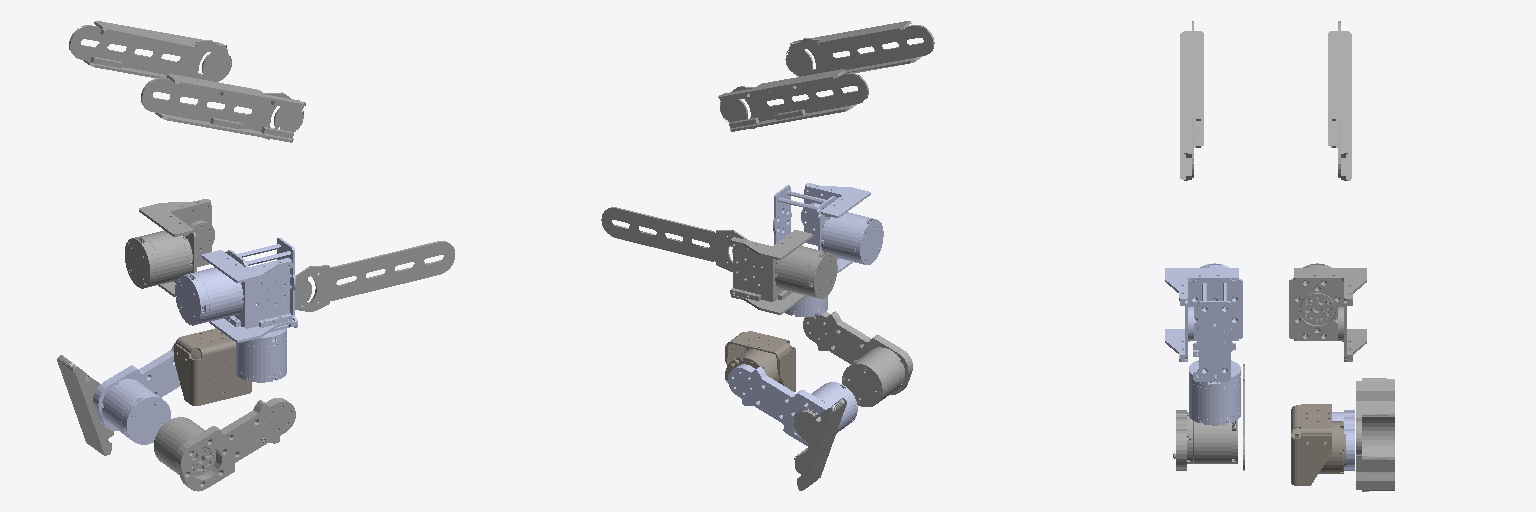
The robot description file, URDF, robot "Pikachu_V01":
<?xml version="1.0" encoding="utf-8"?>
<!-- This URDF was automatically created by SolidWorks to URDF Exporter! Originally created by Stephen Brawner (brawner@gmail.com) 
     Commit Version: 1.6.0-4-g7f85cfe  Build Version: 1.6.7995.38578
     For more information, please see http://wiki.ros.org/sw_urdf_exporter -->
<robot
  name="Pikachu_V01">
  
  
  <!-- mujoco compiler insert -->
  
  <!-- <mujoco>
      <compiler 
      meshdir="../meshes/" 
      balanceinertia="true" 
      discardvisual="false"
      fusestatic="false"/> 
  </mujoco>
   -->
   
  <link
    name="base_link">
    <inertial>
      <origin
        xyz="0.0192484046446927 0.00249628426083394 0.0894284213937917"
        rpy="0 0 0" />
      <mass
        value="1.04578482691312" />
      <inertia
        ixx="0.00406465902676324"
        ixy="7.57272689961396E-08"
        ixz="8.93044145248673E-05"
        iyy="0.00438157067795783"
        iyz="4.93496965835154E-08"
        izz="0.000495755047981349" />
    </inertial>
    <visual>
      <origin
        xyz="0 0 0"
        rpy="0 0 0" />
      <geometry>
        <mesh
          filename="../meshes/base_link.STL" />
      </geometry>
      <material
        name="">
        <color
          rgba="0.792156862745098 0.819607843137255 0.933333333333333 1" />
      </material>
    </visual>
    <collision>
      <origin
        xyz="0 0 0"
        rpy="0 0 0" />
      <geometry>
        <mesh
          filename="../meshes/base_link.STL" />
      </geometry>
    </collision>
  </link>
  <link
    name="back_tail_link">
    <inertial>
      <origin
        xyz="0.0870617396901829 -4.35242120122581E-15 -0.00149999999999541"
        rpy="0 0 0" />
      <mass
        value="0.0553404878609228" />
      <inertia
        ixx="9.04099512803402E-06"
        ixy="-1.83162226476631E-19"
        ixz="-2.79463308749071E-09"
        iyy="0.000211829519933132"
        iyz="-4.40283733453099E-22"
        izz="0.000220787767309185" />
    </inertial>
    <visual>
      <origin
        xyz="0 0 0"
        rpy="0 0 0" />
      <geometry>
        <mesh
          filename="../meshes/back_tail_link.STL" />
      </geometry>
      <material
        name="">
        <color
          rgba="0.698039215686274 0.698039215686274 0.698039215686274 1" />
      </material>
    </visual>
    <collision>
      <origin
        xyz="0 0 0"
        rpy="0 0 0" />
      <geometry>
        <mesh
          filename="../meshes/back_tail_link.STL" />
      </geometry>
    </collision>
  </link>
  <joint
    name="back_tail_joint"
    type="revolute">
    <origin
      xyz="0.0650000000000004 -0.0254499999999994 -0.0399999999999994"
      rpy="1.5707963267949 0 0" />
    <parent
      link="base_link" />
    <child
      link="back_tail_link" />
    <axis
      xyz="0 0 1" />
    <limit 
    lower="-1.05"    
    upper="1.05"    
    effort="3"  
    velocity="10" />
   <dynamics 
    damping="0.05" 
    friction="0.01" />

  </joint>
  <link
    name="left_arm_link">
    <inertial>
      <origin
        xyz="0.0878069289406275 2.53963516883005E-15 -0.000598829402875797"
        rpy="0 0 0" />
      <mass
        value="0.132785524737081" />
      <inertia
        ixx="1.2427673117168E-05"
        ixy="-2.78389217568015E-19"
        ixz="4.53316698434714E-06"
        iyy="0.000345424824733934"
        iyz="-5.74983379271417E-20"
        izz="0.000351210846077783" />
    </inertial>
    <visual>
      <origin
        xyz="0 0 0"
        rpy="0 0 0" />
      <geometry>
        <mesh
          filename="../meshes/left_arm_link.STL" />
      </geometry>
      <material
        name="">
        <color
          rgba="0.698039215686274 0.698039215686274 0.698039215686274 1" />
      </material>
    </visual>
    <collision>
      <origin
        xyz="0 0 0"
        rpy="0 0 0" />
      <geometry>
        <mesh
          filename="../meshes/left_arm_link.STL" />
      </geometry>
    </collision>
  </link>
  <joint
    name="left_arm_joint"
    type="revolute">
    <origin
      xyz="0.0199999999999998 0.0809500000000004 0.205"
      rpy="-1.57079632679491 1.5707963267949 0" />
    <parent
      link="base_link" />
    <child
      link="left_arm_link" />
    <axis
      xyz="0 0 -1" />
    <limit 
      lower="-3.14"    
      upper="-0.77"    
      effort="27"  
      velocity="10" />
    <dynamics 
      damping="0.4" 
      friction="0.01" />
  </joint>
  <link
    name="right_arm_link">
    <inertial>
      <origin
        xyz="0.0846982522182745 9.91914883563538E-15 -0.000310298603530816"
        rpy="0 0 0" />
      <mass
        value="0.126051829781318" />
      <inertia
        ixx="1.2384811107529E-05"
        ixy="-2.44511861378506E-19"
        ixz="4.53316698434715E-06"
        iyy="0.000344497548934873"
        iyz="1.38104631583323E-21"
        izz="0.000350283570278722" />
    </inertial>
    <visual>
      <origin
        xyz="0 0 0"
        rpy="0 0 0" />
      <geometry>
        <mesh
          filename="../meshes/right_arm_link.STL" />
      </geometry>
      <material
        name="">
        <color
          rgba="0.698039215686274 0.698039215686274 0.698039215686274 1" />
      </material>
    </visual>
    <collision>
      <origin
        xyz="0 0 0"
        rpy="0 0 0" />
      <geometry>
        <mesh
          filename="../meshes/right_arm_link.STL" />
      </geometry>
    </collision>
  </link>
  <joint
    name="right_arm_joint"
    type="revolute">
    <origin
      xyz="0.0200000000000008 -0.0809500000000023 0.205"
      rpy="1.57079632679488 1.5707963267949 0" />
    <parent
      link="base_link" />
    <child
      link="right_arm_link" />
    <axis
      xyz="0 0 1" />
    <limit 
      lower="-3.14"    
      upper="-0.77"    
      effort="27"  
      velocity="10" />
    <dynamics 
      damping="0.4" 
      friction="0.01" />
  </joint>
  <link
    name="left_hip_pitch_link">
    <inertial>
      <origin
        xyz="0.047164678756401 2.29594481931938E-06 -0.0231109660173988"
        rpy="0 0 0" />
      <mass
        value="0.240283091885992" />
      <inertia
        ixx="0.00010567950313822"
        ixy="-4.2133249829825E-09"
        ixz="6.46372820114992E-06"
        iyy="0.000101402141671189"
        iyz="1.85268466575085E-08"
        izz="9.44386949645436E-05" />
    </inertial>
    <visual>
      <origin
        xyz="0 0 0"
        rpy="0 0 0" />
      <geometry>
        <mesh
          filename="../meshes/left_hip_pitch_link.STL" />
      </geometry>
      <material
        name="">
        <color
          rgba="0.698039215686274 0.698039215686274 0.698039215686274 1" />
      </material>
    </visual>
    <collision>
      <origin
        xyz="0 0 0"
        rpy="0 0 0" />
      <geometry>
        <mesh
          filename="../meshes/left_hip_pitch_link.STL" />
      </geometry>
    </collision>
  </link>
  <joint
    name="left_hip_pitch_joint"
    type="revolute">
    <origin
      xyz="0 0.0876999999999957 0"
      rpy="1.5707963267949 0 -3.14159265358979" />
    <parent
      link="base_link" />
    <child
      link="left_hip_pitch_link" />
    <axis
      xyz="0 0 1" />
    <limit 
      lower="-0.7"    
      upper="2.7"    
      effort="27"  
      velocity="10" />
    <dynamics 
      damping="0.4" 
      friction="0.01" />
  </joint>
  <link
    name="left_hip_roll_link">
    <inertial>
      <origin
        xyz="-0.000131578086186634 -0.0490802035731037 -0.0331680910493352"
        rpy="0 0 0" />
      <mass
        value="0.237453317125622" />
      <inertia
        ixx="0.000101281549043641"
        ixy="-6.8514958635205E-07"
        ixz="1.85145788731389E-08"
        iyy="7.76647350889941E-05"
        iyz="2.62593565762734E-09"
        izz="9.55481869242956E-05" />
    </inertial>
    <visual>
      <origin
        xyz="0 0 0"
        rpy="0 0 0" />
      <geometry>
        <mesh
          filename="../meshes/left_hip_roll_link.STL" />
      </geometry>
      <material
        name="">
        <color
          rgba="0.698039215686274 0.698039215686274 0.698039215686274 1" />
      </material>
    </visual>
    <collision>
      <origin
        xyz="0 0 0"
        rpy="0 0 0" />
      <geometry>
        <mesh
          filename="../meshes/left_hip_roll_link.STL" />
      </geometry>
    </collision>
  </link>
  <joint
    name="left_hip_roll_joint"
    type="revolute">
    <origin
      xyz="-0.0329999999998985 0 -0.0319999999999964"
      rpy="0 -1.5707963267949 0" />
    <parent
      link="left_hip_pitch_link" />
    <child
      link="left_hip_roll_link" />
    <axis
      xyz="0 0 1" />
    <limit 
      lower="-0.122"    
      upper="0.139"    
      effort="12.5"  
      velocity="5" />
    <dynamics 
      damping="0.1" 
      friction="0.01" />

  </joint>
  <link
    name="left_hip_yaw_link">
    <inertial>
      <origin
        xyz="0.000144543412276071 0.00699444045574775 0.0299012718928228"
        rpy="0 0 0" />
      <mass
        value="0.329226275444801" />
      <inertia
        ixx="0.000165210009097068"
        ixy="-4.1385643884938E-08"
        ixz="-2.09202321652619E-08"
        iyy="0.00028952765917931"
        iyz="-2.31177553373063E-05"
        izz="0.000242730535126742" />
    </inertial>
    <visual>
      <origin
        xyz="0 0 0"
        rpy="0 0 0" />
      <geometry>
        <mesh
          filename="../meshes/left_hip_yaw_link.STL" />
      </geometry>
      <material
        name="">
        <color
          rgba="0.647058823529412 0.619607843137255 0.588235294117647 1" />
      </material>
    </visual>
    <collision>
      <origin
        xyz="0 0 0"
        rpy="0 0 0" />
      <geometry>
        <mesh
          filename="../meshes/left_hip_yaw_link.STL" />
      </geometry>
    </collision>
  </link>
  <joint
    name="left_hip_yaw_joint"
    type="revolute">
    <origin
      xyz="0 -0.110499999999992 -0.0329999999999931"
      rpy="1.5707963267949 -1.5707963267949 0" />
    <parent
      link="left_hip_roll_link" />
    <child
      link="left_hip_yaw_link" />
    <axis
      xyz="0 0 1" />
    <limit 
      lower="-0.261"    
      upper="0.261"    
      effort="12.5"  
      velocity="5" />
    <dynamics 
      damping="0.1" 
      friction="0.01" />
  </joint>
  <link
    name="left_knee_link">
    <inertial>
      <origin
        xyz="3.37502306571313E-05 0.077992676193935 -0.0226477099160689"
        rpy="0 0 0" />
      <mass
        value="0.244244092244912" />
      <inertia
        ixx="0.000245577470764647"
        ixy="1.66562184227726E-08"
        ixz="5.58630980233458E-08"
        iyy="7.48320707718784E-05"
        iyz="-4.77786293220377E-09"
        izz="0.000277378356507274" />
    </inertial>
    <visual>
      <origin
        xyz="0 0 0"
        rpy="0 0 0" />
      <geometry>
        <mesh
          filename="../meshes/left_knee_link.STL" />
      </geometry>
      <material
        name="">
        <color
          rgba="0.792156862745098 0.819607843137255 0.933333333333333 1" />
      </material>
    </visual>
    <collision>
      <origin
        xyz="0 0 0"
        rpy="0 0 0" />
      <geometry>
        <mesh
          filename="../meshes/left_knee_link.STL" />
      </geometry>
    </collision>
  </link>
  <joint
    name="left_knee_joint"
    type="revolute">
    <origin
      xyz="0 -0.0402500000000001 0.038000000000008"
      rpy="1.5707963267949 0 0" />
    <parent
      link="left_hip_yaw_link" />
    <child
      link="left_knee_link" />
    <axis
      xyz="0 0 1" />
    <limit 
      lower="0.04"    
      upper="2.44"    
      effort="12.5"  
      velocity="5" />
    <dynamics 
      damping="0.1" 
      friction="0.01" />
  </joint>
  <link
    name="left_ankle_link">
    <inertial>
      <origin
        xyz="2.56045185054177E-15 -0.0216454714513506 -0.000820902399707418"
        rpy="0 0 0" />
      <mass
        value="0.0747132228410603" />
      <inertia
        ixx="1.1514920427946E-05"
        ixy="-1.01775711193375E-20"
        ixz="2.00903568573958E-23"
        iyy="5.85049657387164E-05"
        iyz="-2.21029114274286E-09"
        izz="6.99080833258092E-05" />
    </inertial>
    <visual>
      <origin
        xyz="0 0 0"
        rpy="0 0 0" />
      <geometry>
        <mesh
          filename="../meshes/left_ankle_link.STL" />
      </geometry>
      <material
        name="">
        <color
          rgba="0.698039215686274 0.698039215686274 0.698039215686274 1" />
      </material>
    </visual>
    <collision>
      <origin
        xyz="0 0 0"
        rpy="0 0 0" />
      <geometry>
        <mesh
          filename="../meshes/left_ankle_link.STL" />
      </geometry>
    </collision>
  </link>
  <joint
    name="left_ankle_joint"
    type="revolute">
    <origin
      xyz="0 0.1 0.00775000000000223"
      rpy="0 0 3.14159265358979" />
    <parent
      link="left_knee_link" />
    <child
      link="left_ankle_link" />
    <axis
      xyz="0 0 1" />
    <limit 
      lower="-1.64"    
      upper="1.64"    
      effort="12.5"  
      velocity="5" />
    <dynamics 
      damping="0.1" 
      friction="0.01" />
  </joint>
  <link
    name="right_hip_pitch_link">
    <inertial>
      <origin
        xyz="0.0471646787563882 2.29594481299805E-06 -0.0231109660173988"
        rpy="0 0 0" />
      <mass
        value="0.240283091885992" />
      <inertia
        ixx="0.00010567950313822"
        ixy="-4.21332498298585E-09"
        ixz="6.46372820114996E-06"
        iyy="0.000101402141671189"
        iyz="1.85268466575149E-08"
        izz="9.44386949645438E-05" />
    </inertial>
    <visual>
      <origin
        xyz="0 0 0"
        rpy="0 0 0" />
      <geometry>
        <mesh
          filename="../meshes/right_hip_pitch_link.STL" />
      </geometry>
      <material
        name="">
        <color
          rgba="0.792156862745098 0.819607843137255 0.933333333333333 1" />
      </material>
    </visual>
    <collision>
      <origin
        xyz="0 0 0"
        rpy="0 0 0" />
      <geometry>
        <mesh
          filename="../meshes/right_hip_pitch_link.STL" />
      </geometry>
    </collision>
  </link>
  <joint
    name="right_hip_pitch_joint"
    type="revolute">
    <origin
      xyz="0 -0.0877000000000044 0"
      rpy="-1.5707963267949 0 -3.14159265358979" />
    <parent
      link="base_link" />
    <child
      link="right_hip_pitch_link" />
    <axis
      xyz="0 0 -1" />
    <limit 
      lower="-0.7"    
      upper="2.7"    
      effort="27"  
      velocity="10" />
    <dynamics 
      damping="0.4" 
      friction="0.01" />
  </joint>
  <link
    name="right_hip_roll_link">
    <inertial>
      <origin
        xyz="-0.000131578086186711 -0.0490802035731159 -0.0331680910493347"
        rpy="0 0 0" />
      <mass
        value="0.237453317125623" />
      <inertia
        ixx="0.000101281549043641"
        ixy="-6.85149586352047E-07"
        ixz="1.85145788731366E-08"
        iyy="7.76647350889941E-05"
        iyz="2.62593565777281E-09"
        izz="9.55481869242957E-05" />
    </inertial>
    <visual>
      <origin
        xyz="0 0 0"
        rpy="0 0 0" />
      <geometry>
        <mesh
          filename="../meshes/right_hip_roll_link.STL" />
      </geometry>
      <material
        name="">
        <color
          rgba="0.792156862745098 0.819607843137255 0.933333333333333 1" />
      </material>
    </visual>
    <collision>
      <origin
        xyz="0 0 0"
        rpy="0 0 0" />
      <geometry>
        <mesh
          filename="../meshes/right_hip_roll_link.STL" />
      </geometry>
    </collision>
  </link>
  <joint
    name="right_hip_roll_joint"
    type="revolute">
    <origin
      xyz="-0.0330000000000126 0 -0.0320000000000056"
      rpy="3.14159265358979 1.5707963267949 0" />
    <parent
      link="right_hip_pitch_link" />
    <child
      link="right_hip_roll_link" />
    <axis
      xyz="0 0 -1" />
    <limit 
      lower="-0.122"    
      upper="0.139"    
      effort="12.5"  
      velocity="5" />
    <dynamics 
      damping="0.1" 
      friction="0.01" />
  </joint>
  <link
    name="right_hip_yaw_link">
    <inertial>
      <origin
        xyz="-1.80647165639453E-05 -0.00720758801509277 0.0298984250044248"
        rpy="0 0 0" />
      <mass
        value="0.327324989928112" />
      <inertia
        ixx="0.000165068065313523"
        ixy="-4.147938141584E-08"
        ixz="-2.39875237559401E-08"
        iyy="0.000289354850328195"
        iyz="2.31175686425225E-05"
        izz="0.000242696892994118" />
    </inertial>
    <visual>
      <origin
        xyz="0 0 0"
        rpy="0 0 0" />
      <geometry>
        <mesh
          filename="../meshes/right_hip_yaw_link.STL" />
      </geometry>
      <material
        name="">
        <color
          rgba="0.792156862745098 0.819607843137255 0.933333333333333 1" />
      </material>
    </visual>
    <collision>
      <origin
        xyz="0 0 0"
        rpy="0 0 0" />
      <geometry>
        <mesh
          filename="../meshes/right_hip_yaw_link.STL" />
      </geometry>
    </collision>
  </link>
  <joint
    name="right_hip_yaw_joint"
    type="revolute">
    <origin
      xyz="0 -0.110500000000004 -0.0330000000000059"
      rpy="1.5707963267949 -1.5707963267949 0" />
    <parent
      link="right_hip_roll_link" />
    <child
      link="right_hip_yaw_link" />
    <axis
      xyz="0 0 -1" />
    <limit 
      lower="-0.261"    
      upper="0.261"    
      effort="12.5"  
      velocity="5" />
    <dynamics 
      damping="0.1" 
      friction="0.01" />
  </joint>
  <link
    name="right_knee_link">
    <inertial>
      <origin
        xyz="3.27812508690156E-06 -0.0778846142592483 -0.0225875584669033"
        rpy="0 0 0" />
      <mass
        value="0.244872851574774" />
      <inertia
        ixx="0.00024554440406305"
        ixy="2.85439858682006E-08"
        ixz="-4.68779326395104E-08"
        iyy="7.48700324479953E-05"
        iyz="-3.07564675120527E-08"
        izz="0.00027738117353851" />
    </inertial>
    <visual>
      <origin
        xyz="0 0 0"
        rpy="0 0 0" />
      <geometry>
        <mesh
          filename="../meshes/right_knee_link.STL" />
      </geometry>
      <material
        name="">
        <color
          rgba="0.698039215686274 0.698039215686274 0.698039215686274 1" />
      </material>
    </visual>
    <collision>
      <origin
        xyz="0 0 0"
        rpy="0 0 0" />
      <geometry>
        <mesh
          filename="../meshes/right_knee_link.STL" />
      </geometry>
    </collision>
  </link>
  <joint
    name="right_knee_joint"
    type="revolute">
    <origin
      xyz="0 0.0419999999999997 0.037999999999996"
      rpy="-1.5707963267949 0 0" />
    <parent
      link="right_hip_yaw_link" />
    <child
      link="right_knee_link" />
    <axis
      xyz="0 0 -1" />
    <limit 
      lower="0.04"    
      upper="2.44"    
      effort="12.5"  
      velocity="5" />
    <dynamics 
      damping="0.1" 
      friction="0.01" />
  </joint>
  <link
    name="right_ankle_link">
    <inertial>
      <origin
        xyz="-9.93649607039515E-15 -0.021645471451363 0.000820902399698301"
        rpy="0 0 0" />
      <mass
        value="0.0747132228410604" />
      <inertia
        ixx="1.1514920427946E-05"
        ixy="-4.79728186702888E-21"
        ixz="2.68167580902225E-21"
        iyy="5.85049657387164E-05"
        iyz="2.21029114274467E-09"
        izz="6.99080833258093E-05" />
    </inertial>
    <visual>
      <origin
        xyz="0 0 0"
        rpy="0 0 0" />
      <geometry>
        <mesh
          filename="../meshes/right_ankle_link.STL" />
      </geometry>
      <material
        name="">
        <color
          rgba="0.698039215686274 0.698039215686274 0.698039215686274 1" />
      </material>
    </visual>
    <collision>
      <origin
        xyz="0 0 0"
        rpy="0 0 0" />
      <geometry>
        <mesh
          filename="../meshes/right_ankle_link.STL" />
      </geometry>
    </collision>
  </link>
  <joint
    name="right_ankle_joint"
    type="revolute">
    <origin
      xyz="0 -0.100000000000003 0.00775000000000253"
      rpy="3.14159265358979 0 3.14159265358979" />
    <parent
      link="right_knee_link" />
    <child
      link="right_ankle_link" />
    <axis
      xyz="0 0 1" />
    <limit 
      lower="-1.64"    
      upper="1.64"    
      effort="12.5"  
      velocity="5" />
    <dynamics 
      damping="0.1" 
      friction="0.01" />
  </joint>

<!-- IMU -->
  <!-- <link
    name="imu">
    <inertial>
      <origin
        xyz="0 0 0"
        rpy="0 0 0" />
      <mass
        value="0" />
      <inertia
        ixx="0"
        ixy="0"
        ixz="0"
        iyy="0"
        iyz="0"
        izz="0" />
    </inertial>
  </link>
  <joint
    name="imu_joint"
    type="fixed">
    <origin
      xyz="-0.02557 0 0.04232"
      rpy="0 0 0" />
    <parent
      link="base" />
    <child
      link="imu" />
    <axis
      xyz="0 0 0" />
  </joint> -->


</robot>

--- Render facts (derived) ---
3 views of the same robot in one strip: view 1: azimuth 30°, elevation 25°; view 2: azimuth 150°, elevation 25°; view 3: azimuth 270°, elevation 25° (orthographic).
Model Pikachu_V01 with 14 links and 13 joints (13 revolute), rooted at base_link, posed all joints at 0 but 4 set to mid-range because 0 is outside their limits (left_arm_joint = -1.96, right_arm_joint = -1.96, left_knee_joint = 1.24, right_knee_joint = 1.24).
Visible links, largest first — view 1: right_hip_pitch_link, right_knee_link, right_arm_link, left_arm_link, left_hip_pitch_link, back_tail_link, left_knee_link, left_hip_yaw_link, right_hip_roll_link, left_ankle_link; view 2: left_hip_pitch_link, left_arm_link, right_knee_link, right_arm_link, right_hip_pitch_link, left_knee_link, back_tail_link, left_hip_yaw_link, left_ankle_link, right_hip_roll_link; view 3: right_hip_roll_link, left_hip_pitch_link, left_ankle_link, left_hip_yaw_link, left_arm_link, right_arm_link, right_hip_pitch_link, right_knee_link, left_knee_link.
Link boxes in pixels (x1,y1,x2,y2): right_hip_pitch_link: (175,250,292,342); right_knee_link: (154,398,295,491); right_arm_link: (141,74,305,142); left_arm_link: (69,21,231,81); left_hip_pitch_link: (125,199,214,296); back_tail_link: (295,241,454,311); left_knee_link: (93,340,180,444); left_hip_yaw_link: (174,328,251,405); right_hip_roll_link: (225,238,297,382); left_ankle_link: (57,355,113,455); left_hip_pitch_link: (730,230,837,314); left_arm_link: (718,69,868,131); right_knee_link: (803,311,912,406); right_arm_link: (785,21,934,76); right_hip_pitch_link: (801,183,883,272); left_knee_link: (728,364,857,445); back_tail_link: (601,207,749,271); left_hip_yaw_link: (725,331,795,391); left_ankle_link: (793,398,846,490); right_hip_roll_link: (773,185,837,316); right_hip_roll_link: (1189,277,1240,425); left_hip_pitch_link: (1289,263,1366,361); left_ankle_link: (1356,378,1394,491); left_hip_yaw_link: (1291,404,1345,485); left_arm_link: (1328,21,1351,180); right_arm_link: (1180,21,1203,180); right_hip_pitch_link: (1165,263,1242,361); right_knee_link: (1173,410,1237,470); left_knee_link: (1332,410,1354,470).
Size in the robot's own frame: 0.4318 by 0.2494 by 0.5428 metres.
10 mesh visuals loaded from 14 distinct referenced files (10 binary STL); not drawn: 4 (reference not matched to a file when rendering).
